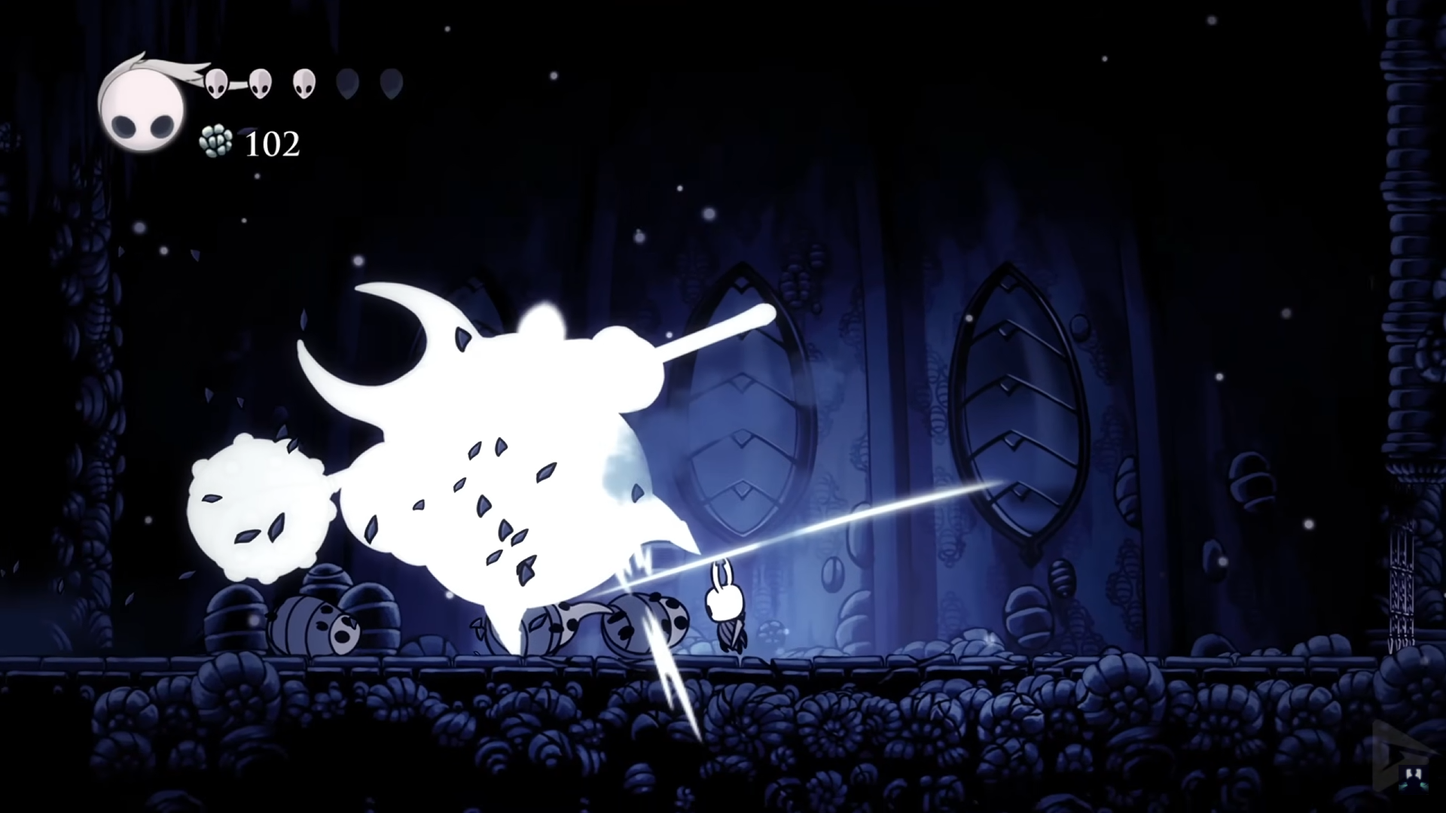HK: (699, 552, 752, 659)
